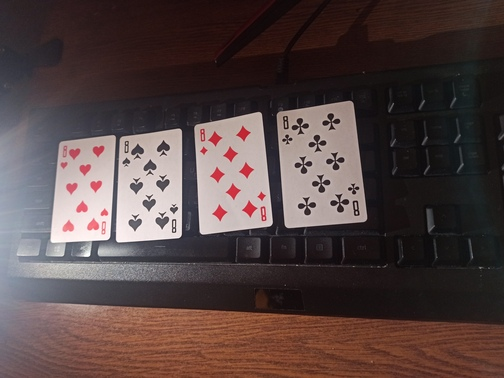eightclubs: (273, 100, 371, 231)
eightdiamonds: (193, 114, 275, 233)
eighthearts: (49, 134, 113, 241)
eightspades: (114, 130, 182, 243)
